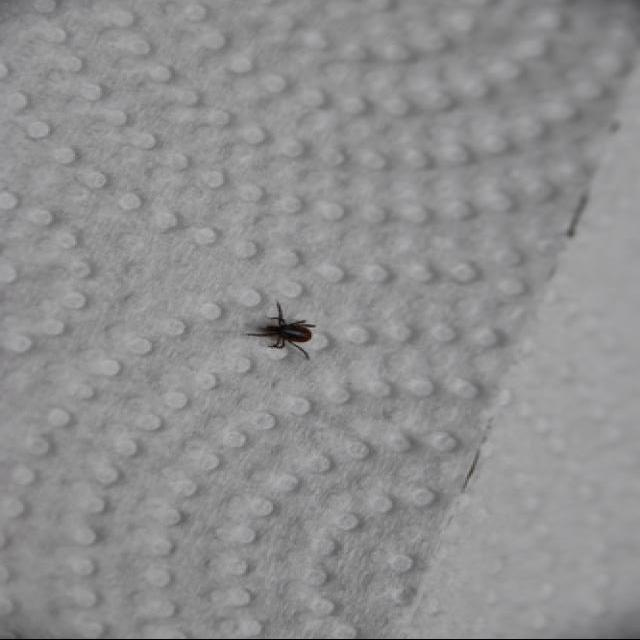Ixodes Ricinus-M: (236, 303, 317, 360)
